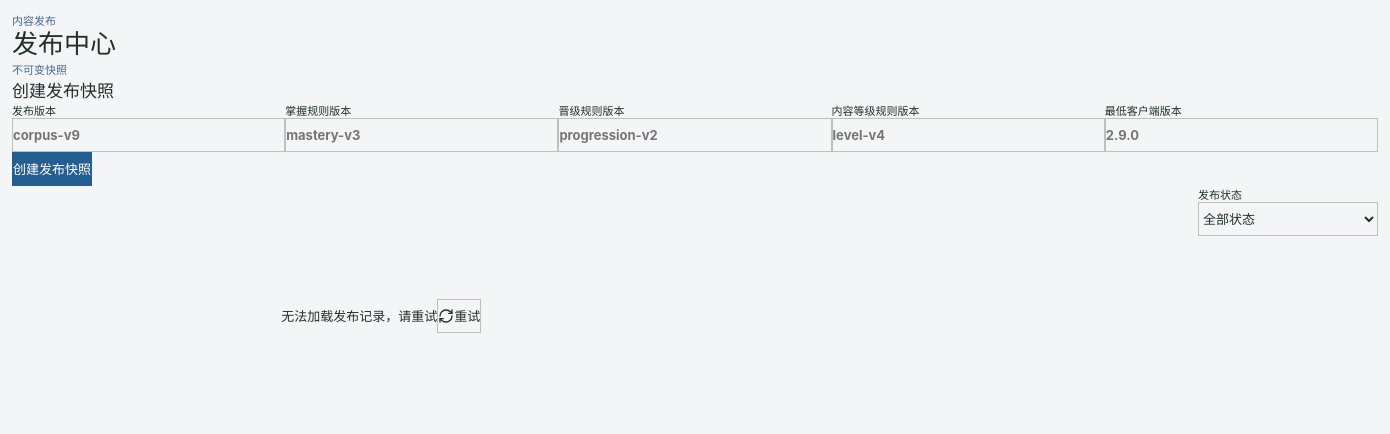
Test case: ReleaseCenterPage › retries failed release list and next-page requests
Expected: the message shows "无法加载发布记录，请重试", [281,308,437,324]
Click the button with aria-label "重试加载发布记录".
click(459, 316)  # box [437,298,481,332]
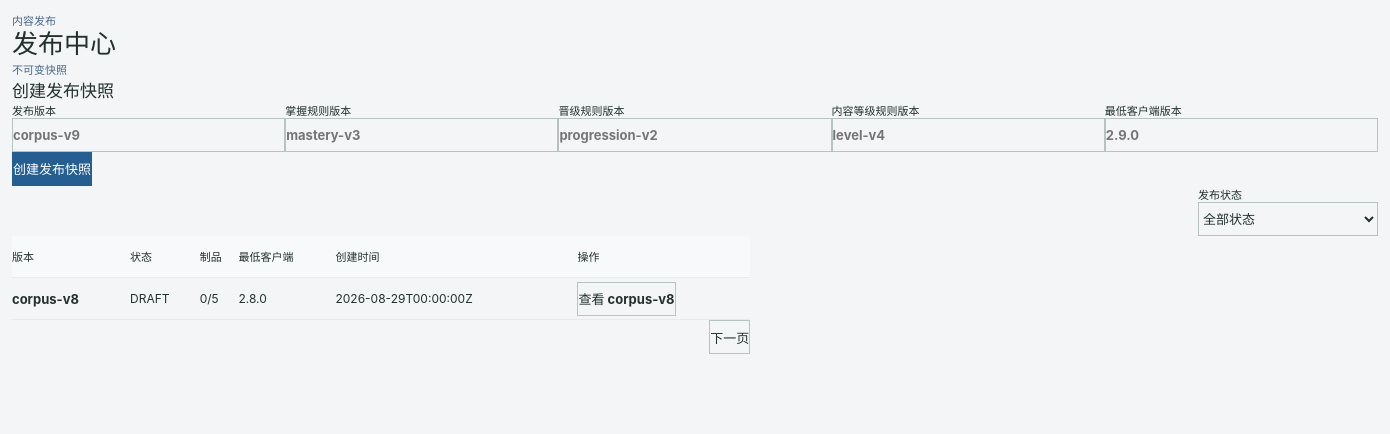
Expected: the text "corpus-v8" is shown, [12,278,130,320]
Click the button "下一页".
click(730, 337)  # box [709,320,750,354]
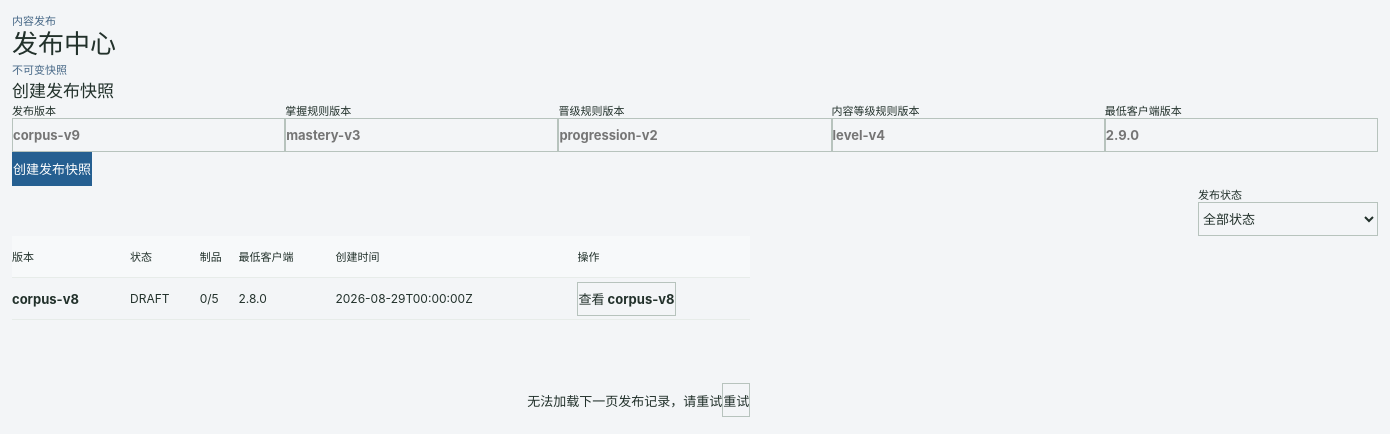
Expected: the text "corpus-v8" is shown, [12,278,130,320]
Expected: the message shows "无法加载下一页发布记录，请重试", [527,392,722,408]
Click the button with aria-label "重试加载下一页发布记录".
click(736, 400)  # box [722,383,750,417]
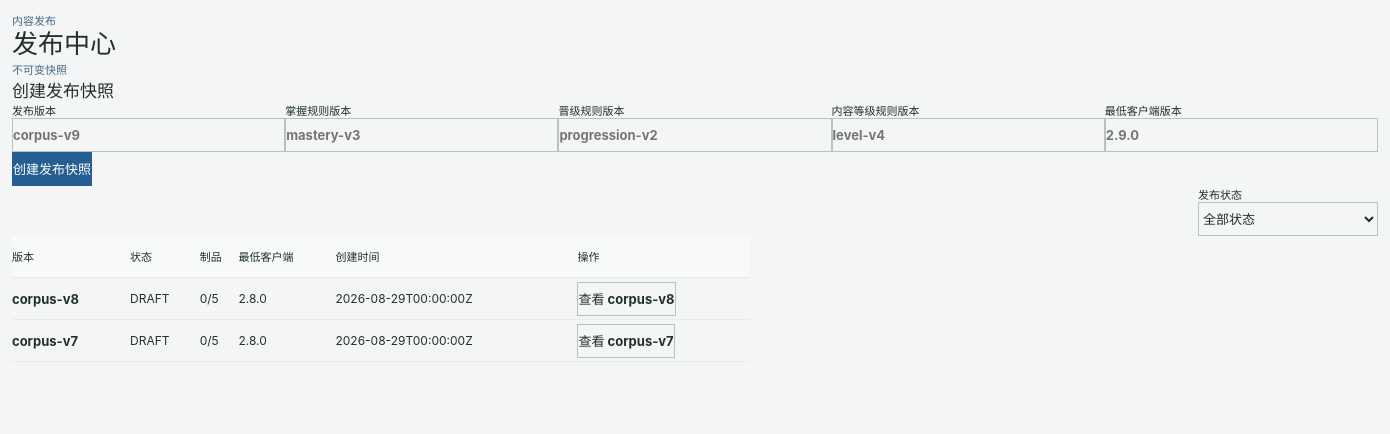
Expected: the text "corpus-v7" is shown, [12,320,130,362]
